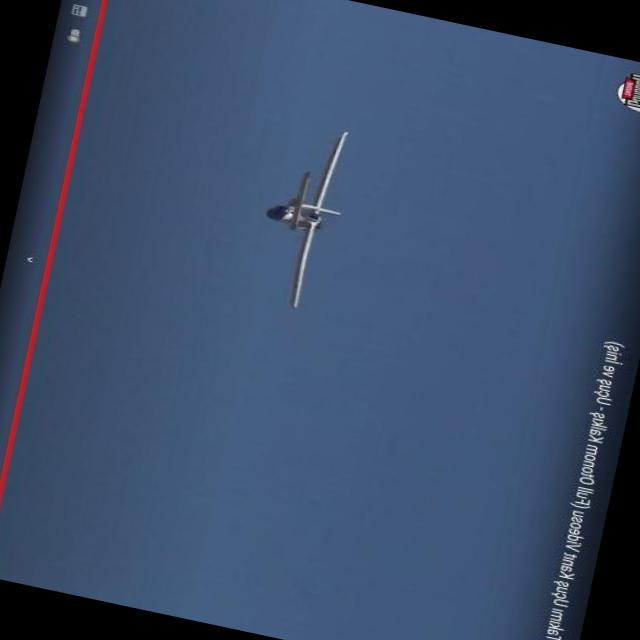UAV: (224, 96, 382, 316)
